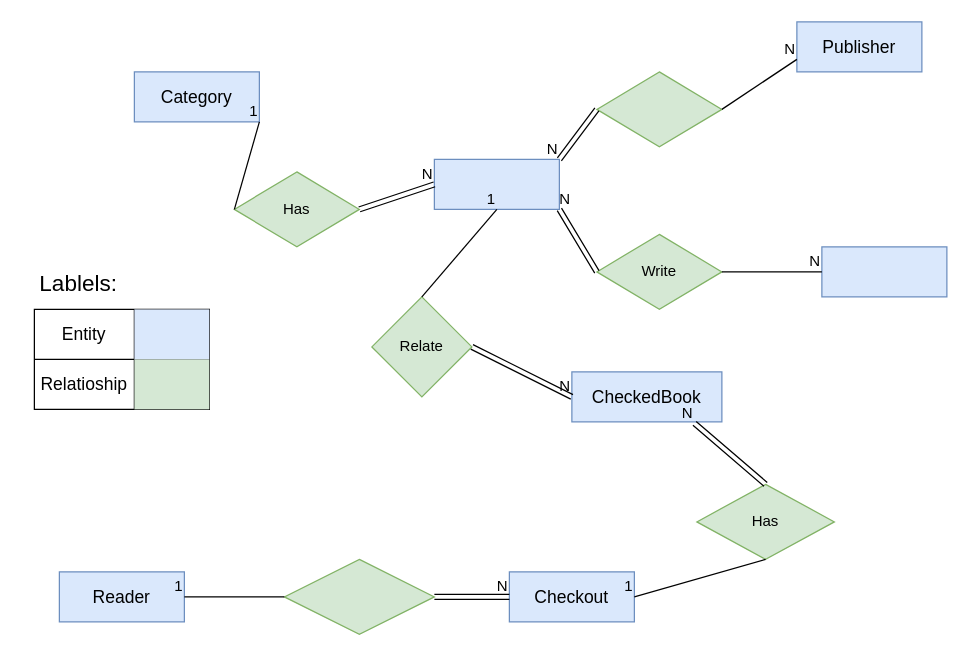
The diagram is 969 pixels wide and 656 high, and some of its shapes have lost their labels. The shapes that lost their labels are listed below. From the top down, each one's centre as x and y in pixels, then its label:
the point at 659,109: Publish
the point at 496,183: Book
the point at 884,271: Auther
the point at 358,596: Reserve
